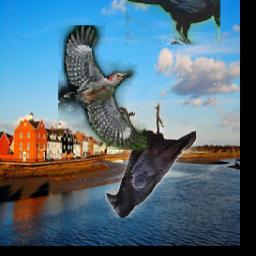Crow: (106, 104, 197, 219), (127, 0, 221, 46)
Woodpecker: (59, 26, 148, 151)
